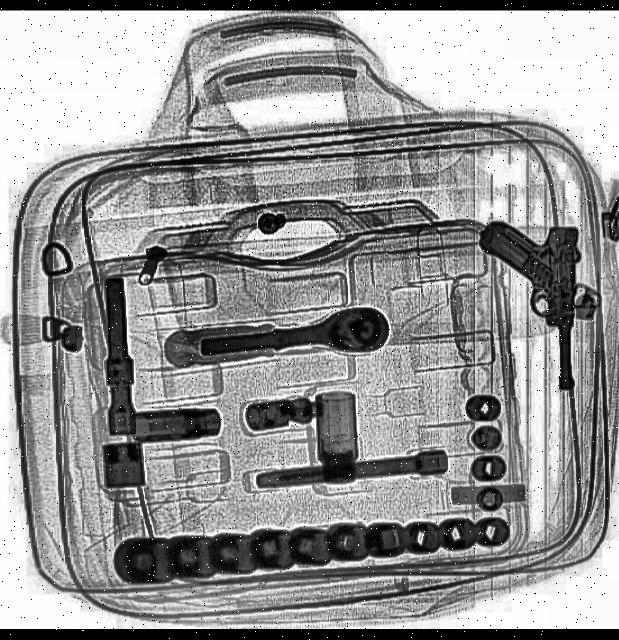Gun: (476, 222, 576, 392)
